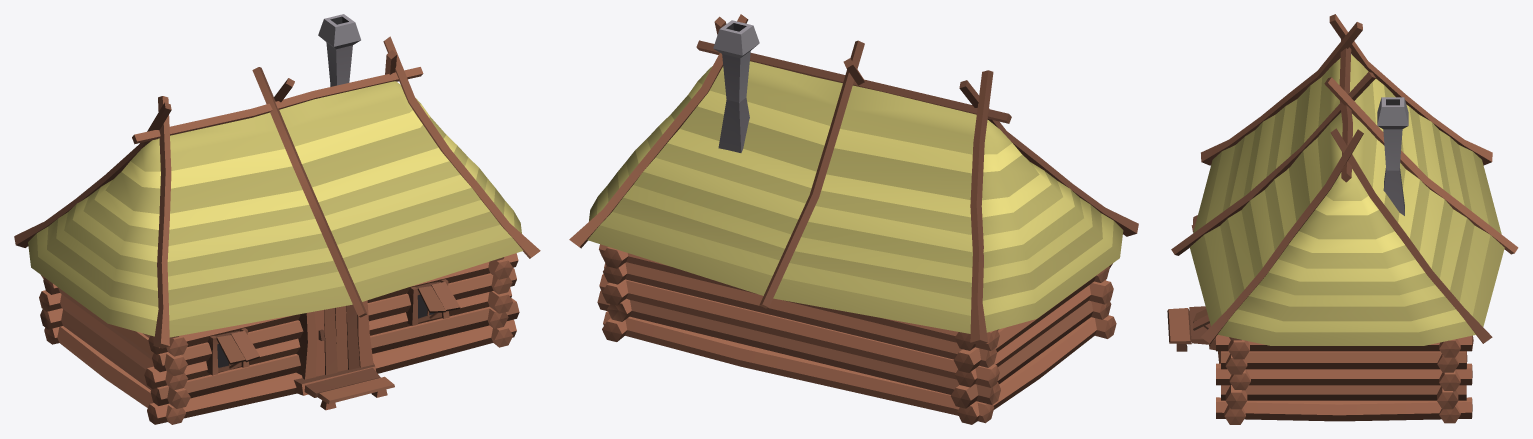
The model's file is House_2.fbx.
3 renders of one model, left to right at view 1: azimuth 30°, elevation 25°; view 2: azimuth 150°, elevation 25°; view 3: azimuth 270°, elevation 25°, orthographic. The views are drawn at different scales.
Visible parts, largest first — view 1: House_2; view 2: House_2; view 3: House_2.
Part boxes in pixels (x1,y1,x2,y2): House_2: (14,14,540,424); House_2: (569,14,1138,424); House_2: (1167,14,1518,424).
Size of the model in its own units: 0.1311 by 0.085 by 0.097.
